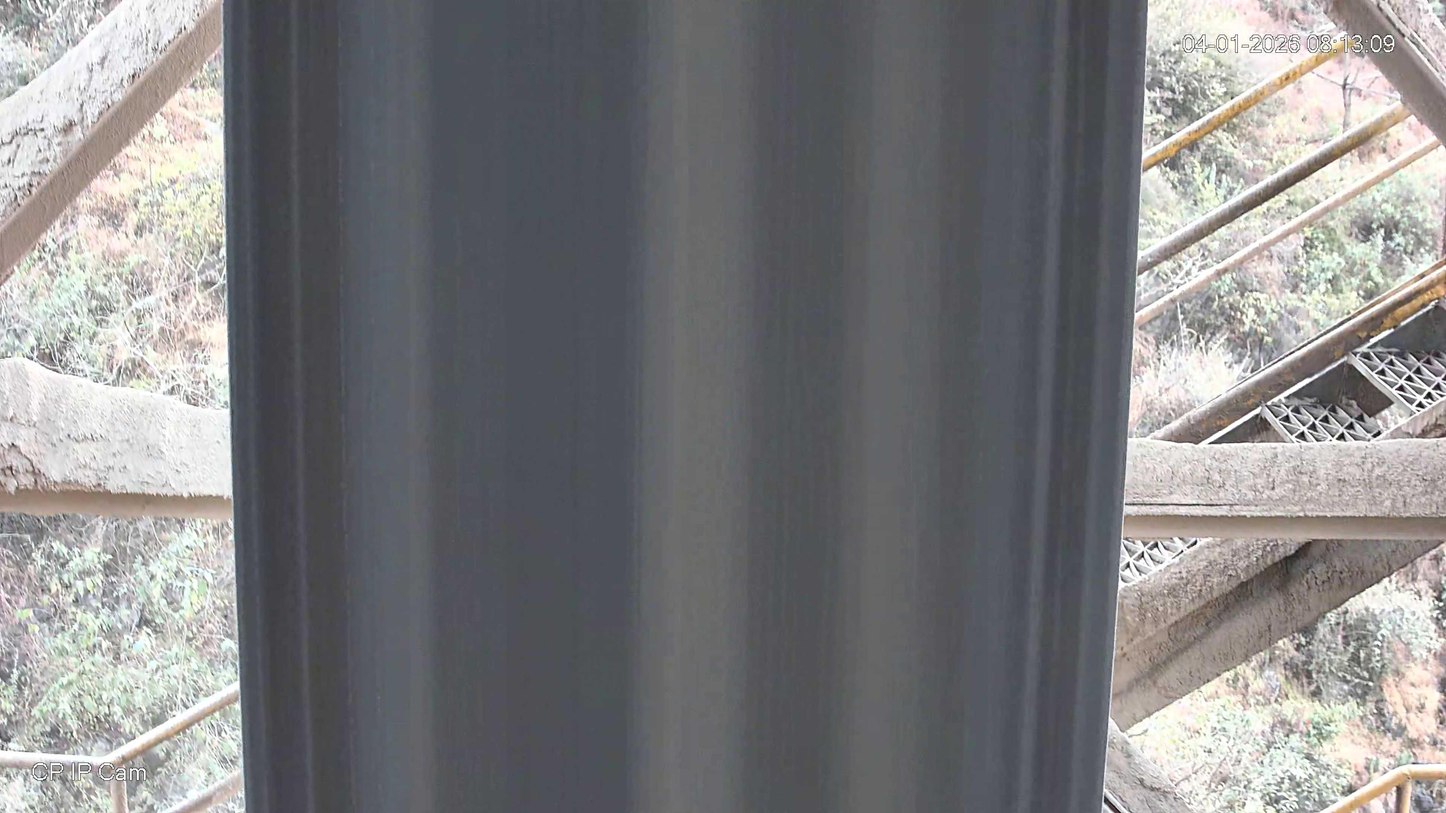belt_roi: (226, 0, 1151, 813)
